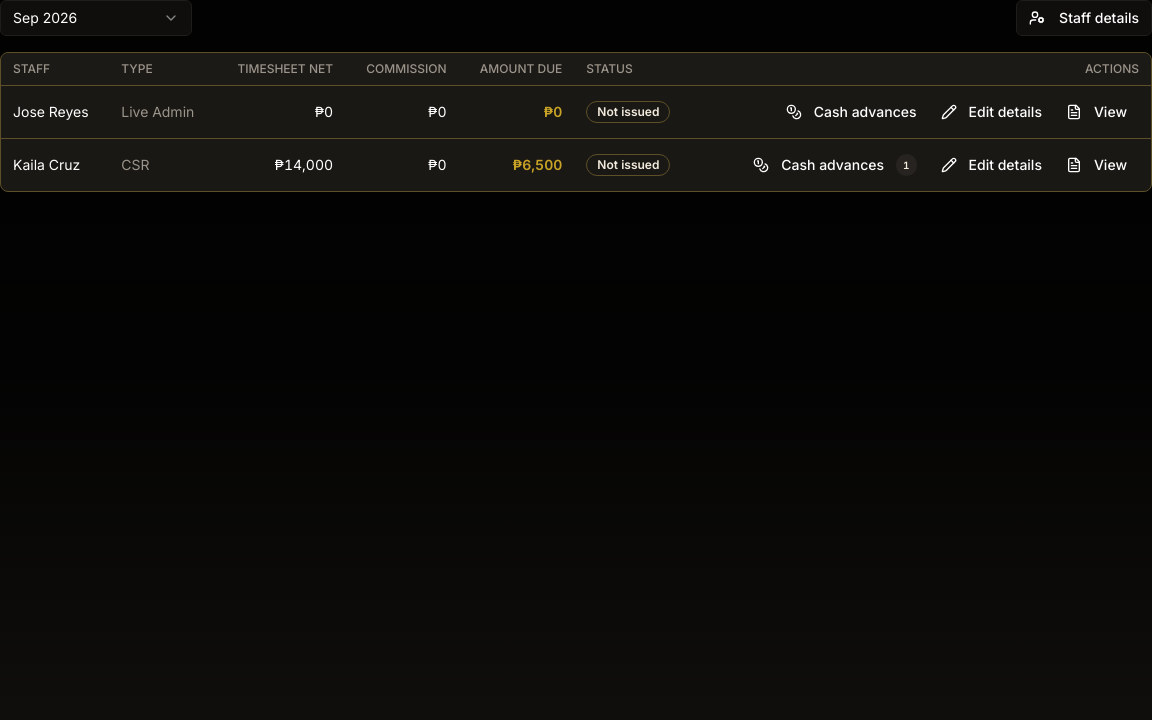
Payslips tab — cash advances, employee ID, cash bond › Finalize waits for the employee ID
This screenshot has width=1152, height=720.
Click the button "View" in the row of "Jose Reyes".
click(1096, 112)  # box [1054, 94, 1139, 130]
(page scrolled)
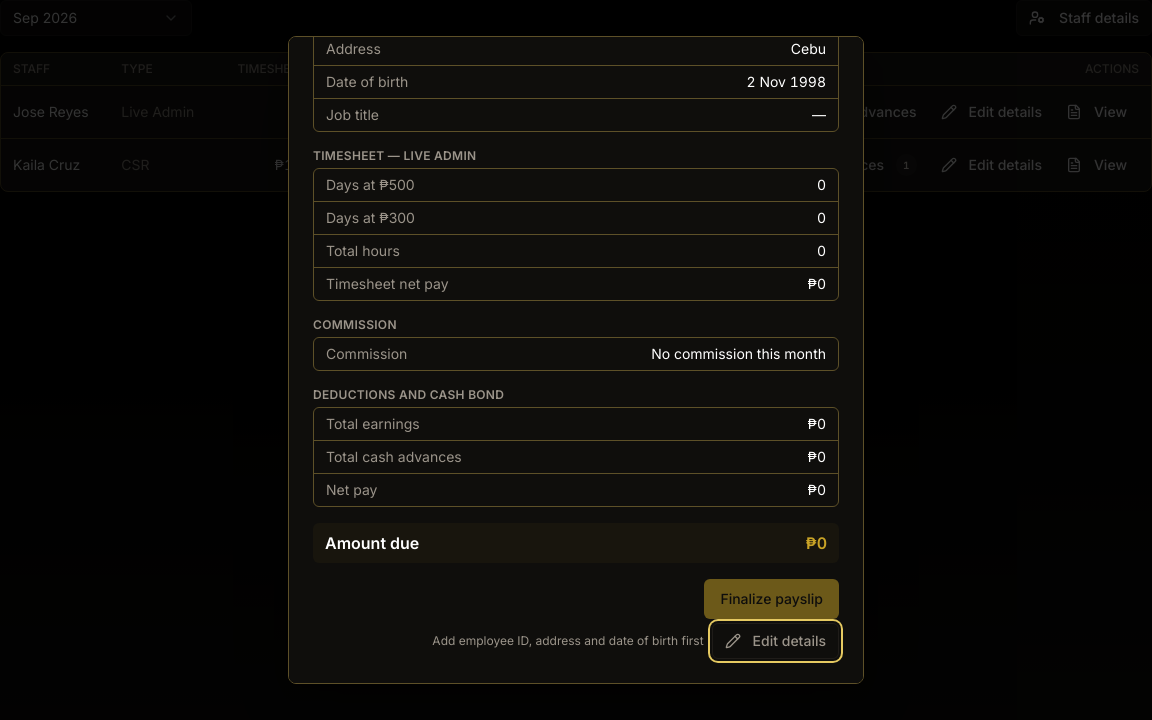
Expected: the text with test id "payslip-finalize-block" reads "Add employee ID, address and date of birth first", [432, 633, 704, 648]
Expected: the button with test id "payslip-edit-details" is shown, [712, 623, 839, 659]
